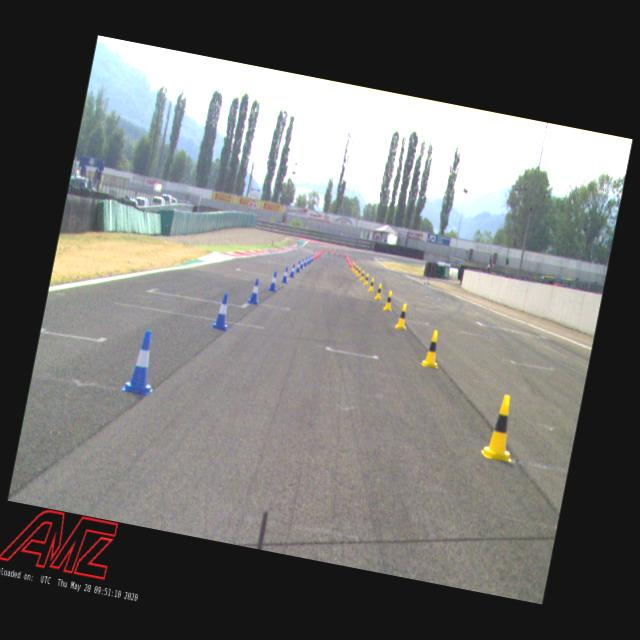blue_cone: (121, 328, 164, 397), (210, 291, 236, 332), (247, 278, 263, 306), (267, 270, 280, 292), (281, 266, 290, 284), (288, 263, 298, 278), (295, 260, 302, 274), (299, 257, 305, 270), (303, 256, 308, 266), (306, 255, 311, 265)
yellow_cone: (480, 392, 524, 464), (420, 328, 445, 370), (394, 302, 412, 332), (382, 290, 396, 313), (374, 282, 384, 302), (368, 278, 377, 294), (363, 272, 370, 286), (360, 270, 366, 282), (356, 268, 362, 278), (354, 265, 359, 275)
